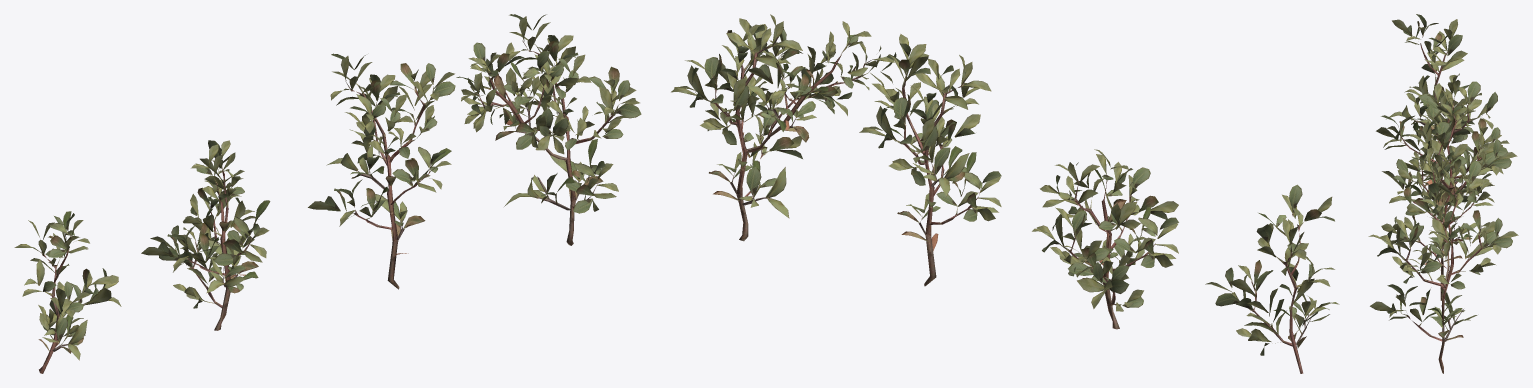
The model's file is shrub_04.glb.
3 views of the same model, side by side, from view 1: azimuth 30°, elevation 25°; view 2: azimuth 150°, elevation 25°; view 3: azimuth 270°, elevation 25° (orthographic). The views are drawn at different scales.
Parts seen in each view (by area): view 1: shrub_04; view 2: shrub_04; view 3: shrub_04.
Part boxes in pixels (x1=…): shrub_04: x1=14, y1=14, x2=641, y2=373; shrub_04: x1=671, y1=14, x2=1339, y2=373; shrub_04: x1=1368, y1=14, x2=1518, y2=373.
Size of the model in its own units: 0.5837 by 0.2185 by 0.1461.
1 material, 1 textured.
